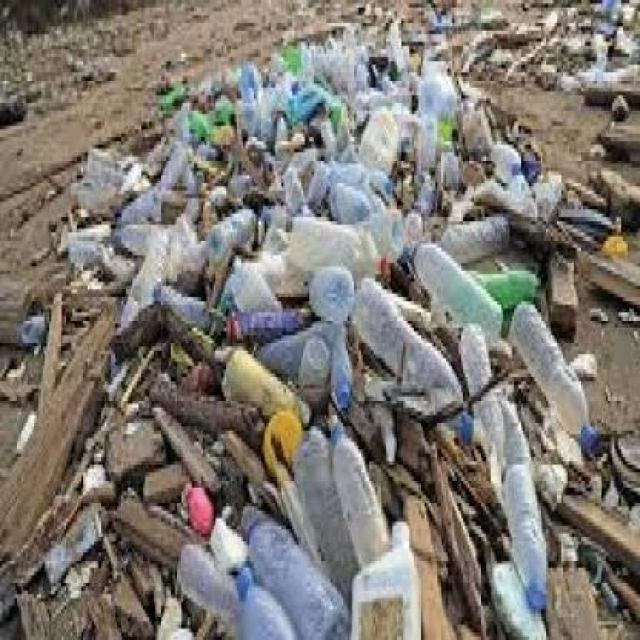garbage: (6, 8, 638, 636)
